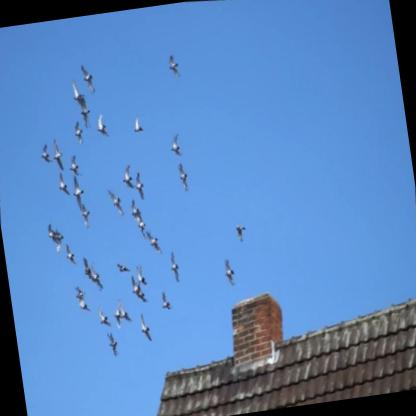bird: (76, 94, 97, 131), (106, 184, 128, 219), (48, 137, 68, 173), (68, 174, 88, 210), (144, 225, 165, 258), (166, 249, 185, 285), (78, 62, 98, 95), (220, 255, 240, 288), (103, 328, 124, 358), (174, 162, 194, 193), (68, 75, 86, 108), (133, 210, 152, 241), (119, 161, 139, 190), (138, 311, 155, 344), (132, 169, 149, 201), (167, 131, 187, 158), (96, 301, 115, 329), (66, 150, 85, 177), (93, 112, 111, 140), (116, 296, 134, 324), (51, 226, 68, 255), (38, 139, 56, 166), (56, 171, 73, 199), (88, 263, 105, 291), (133, 262, 151, 288), (110, 300, 126, 329), (158, 287, 177, 311), (167, 52, 183, 80), (79, 253, 96, 279), (71, 119, 87, 146), (63, 241, 79, 267), (134, 281, 151, 304), (78, 204, 93, 229), (76, 293, 93, 315), (127, 198, 143, 220), (46, 222, 60, 247), (233, 221, 248, 244), (129, 275, 144, 298), (132, 113, 147, 134), (115, 259, 133, 276), (73, 283, 89, 300)
